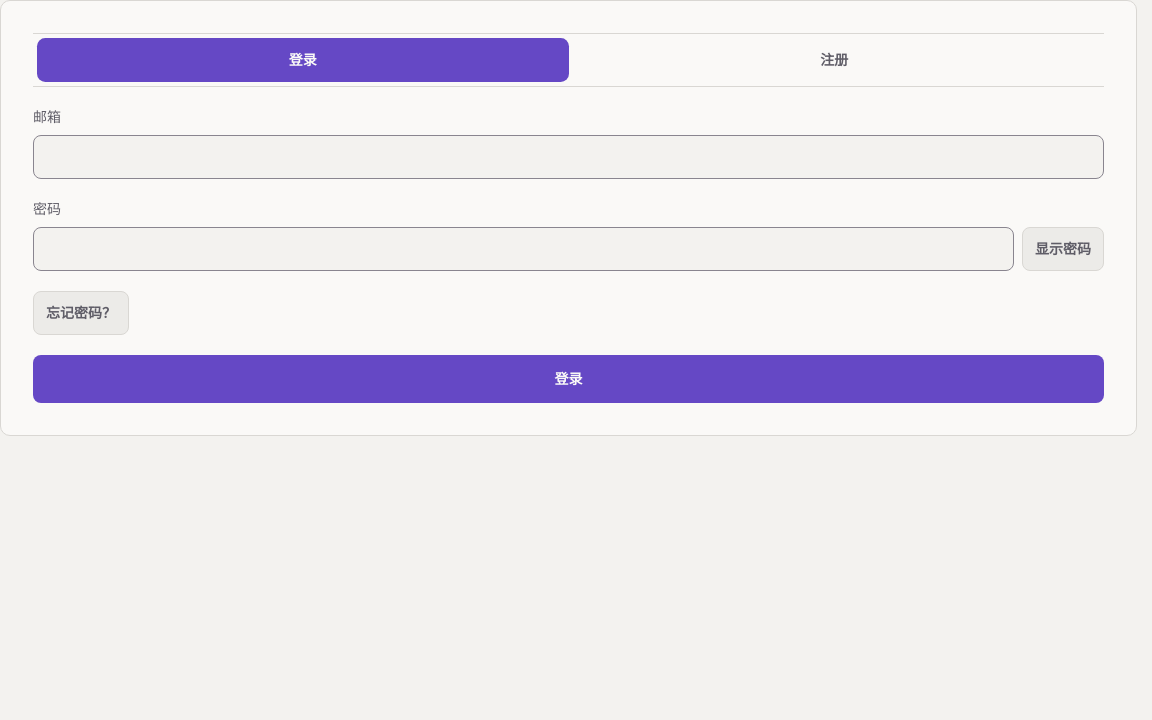
Test: AuthForm invitation code › announces an invalid manual invitation code
This screenshot has width=1152, height=720.
Click the button "注册". click: coordinates (834, 60)
box: [568,38,1100,82]
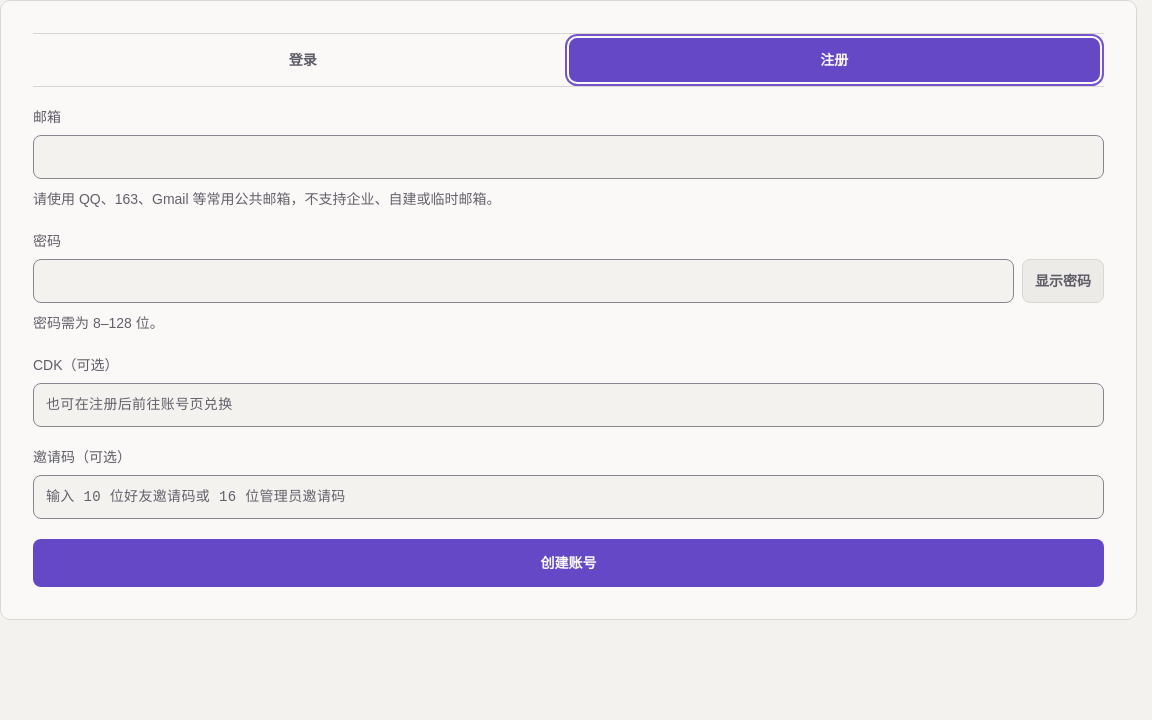
Type "new@qq.com" into the field labelled "邮箱". click: coordinates (568, 157)
box: [33,135,1104,179]
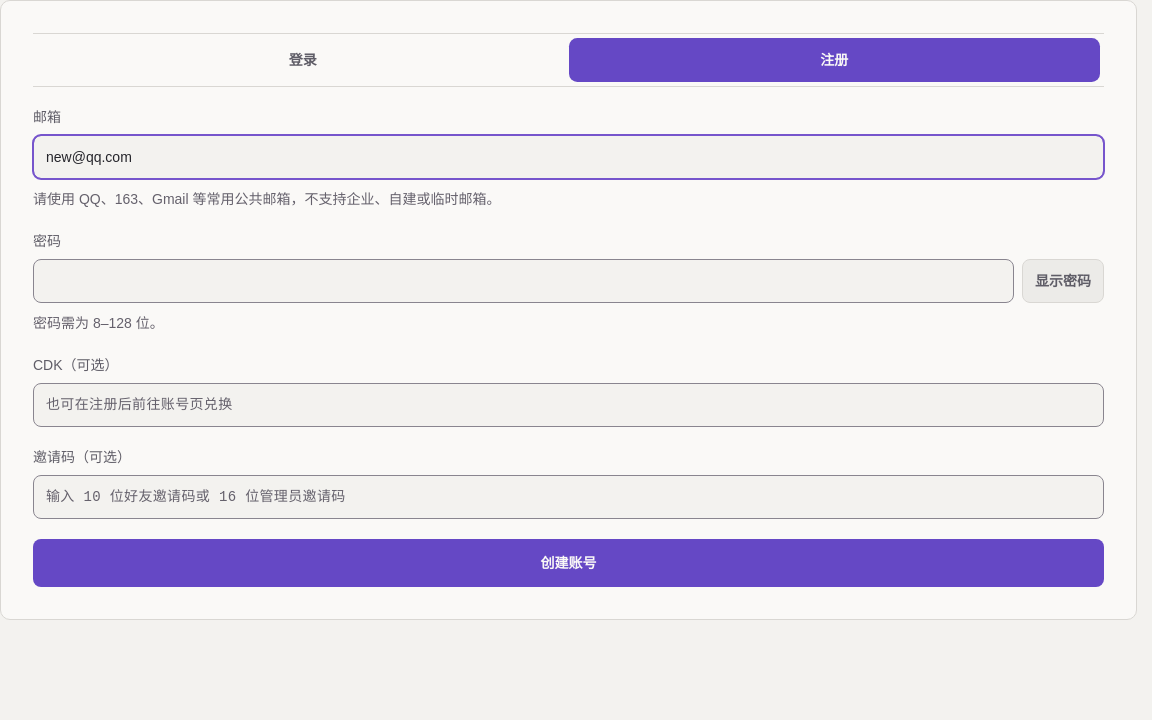
Type "password123" into the password field labelled "密码". click: coordinates (524, 281)
box: [33,259,1014,303]
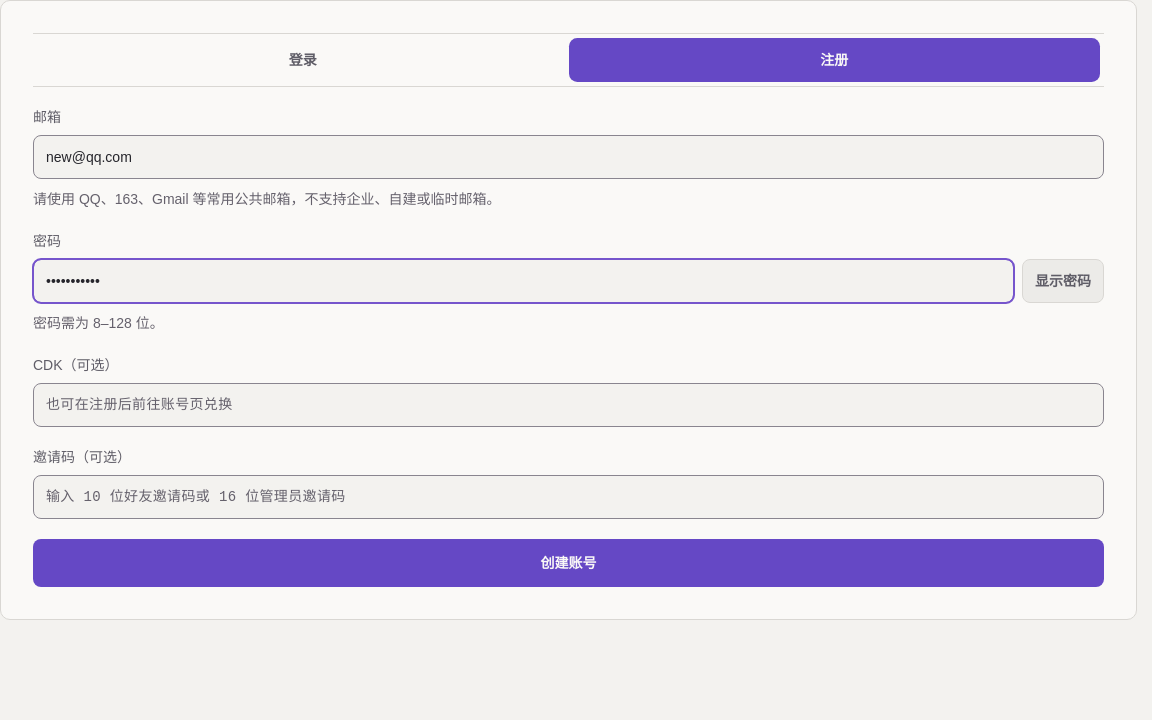
Type "INVALID" into the field with placeholder "输入 10 位好友邀请码或 16 位管理员邀请码". click: coordinates (568, 497)
box: [33,475,1104,519]
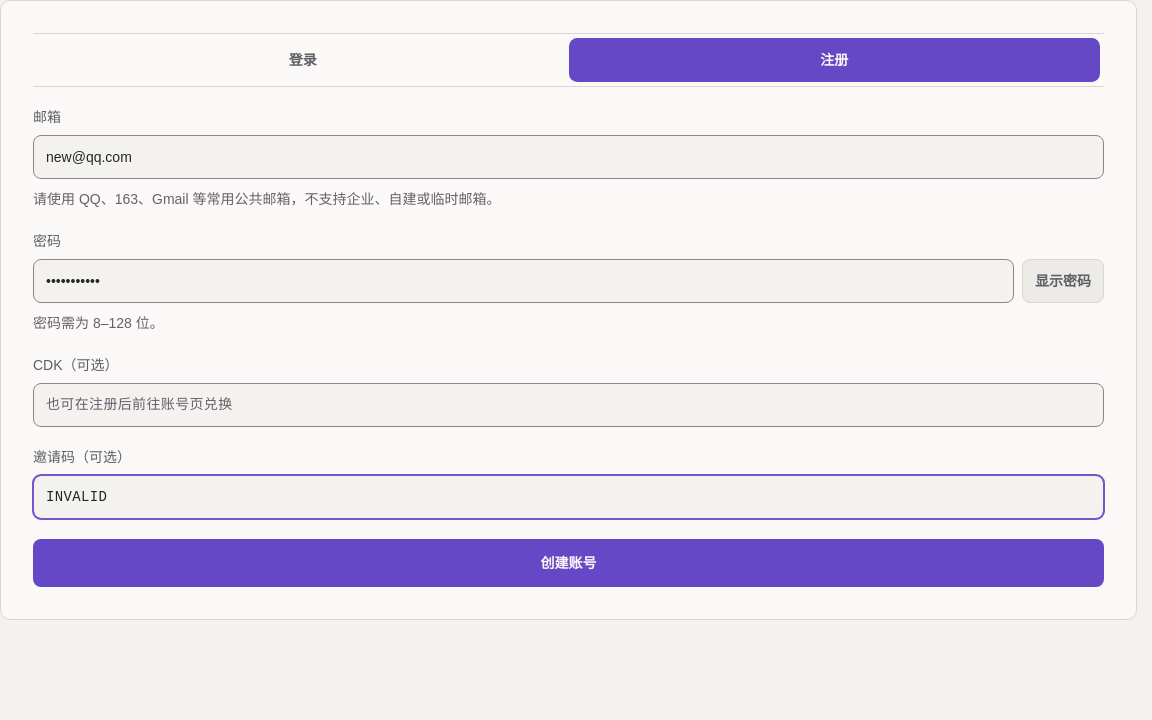
Click the button "创建账号". click: coordinates (568, 563)
box: [33,539,1104,587]
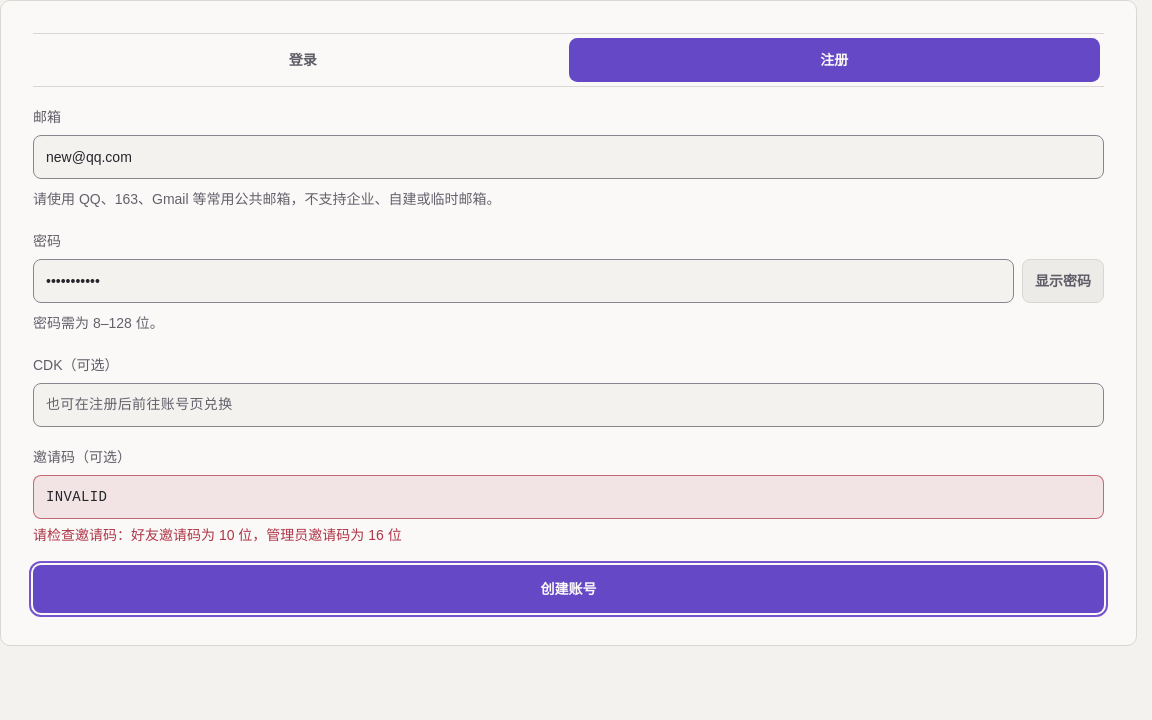
Check: the message shows "好友邀请码为 10 位，管理员邀请码为 16 位", box [33,527,402,543]
